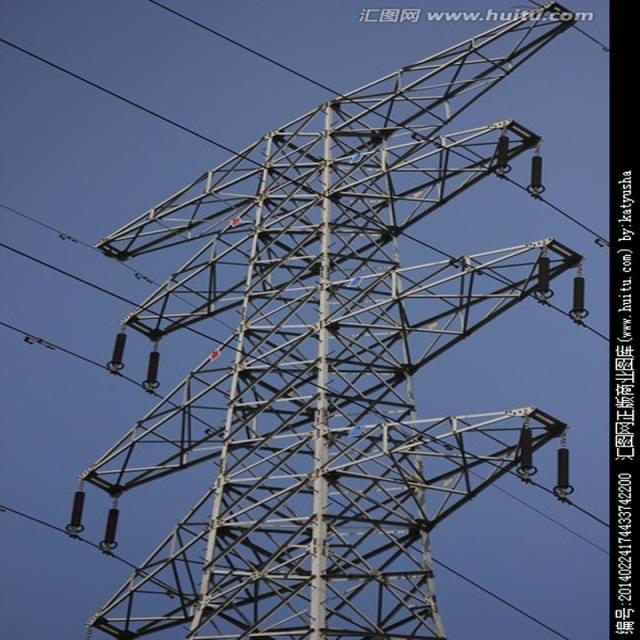non-critical vegetation: (40, 37, 559, 546)
